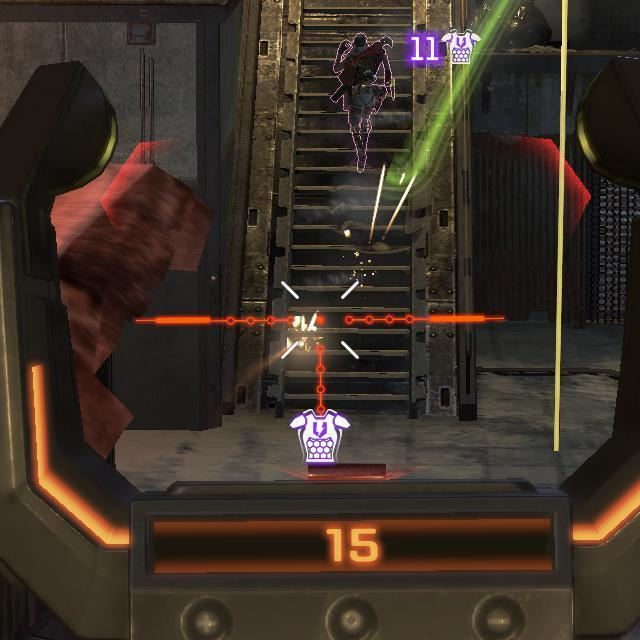avatar: (329, 30, 399, 175)
